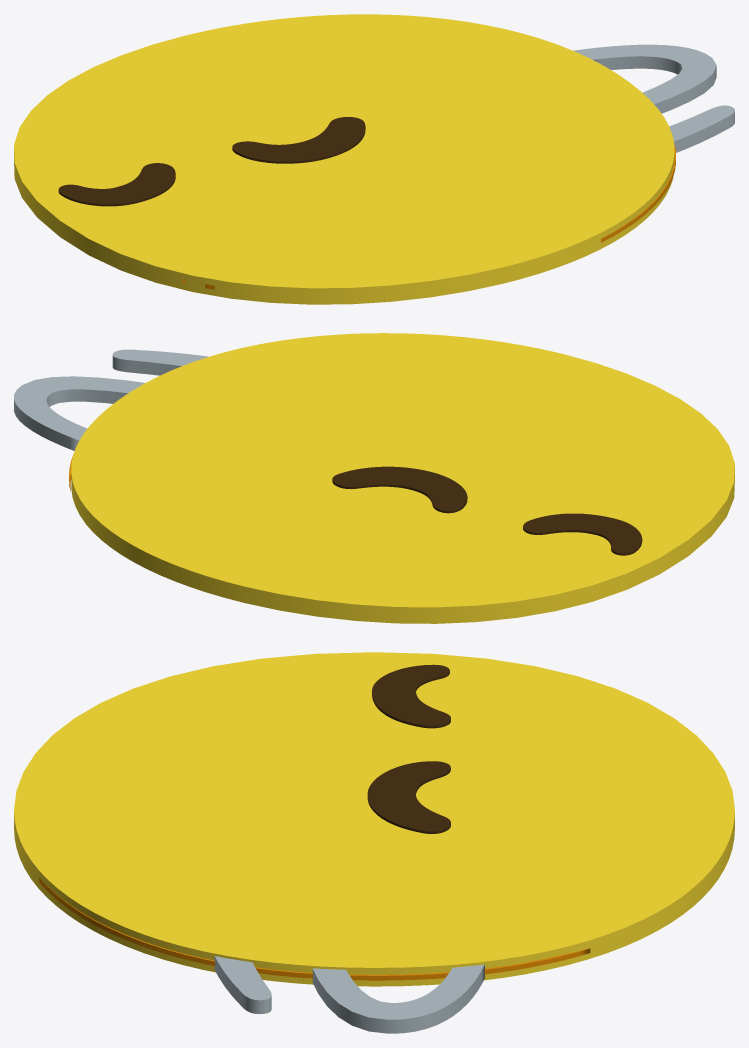
File: emoji_u1f642_200d_2194.glb
3 renders of one model, top to bottom at view 1: azimuth 30°, elevation 25°; view 2: azimuth 150°, elevation 25°; view 3: azimuth 270°, elevation 25°, orthographic. The views are drawn at different scales.
Parts seen in each view (by area): view 1: emoji_u1f642_200d_2194; view 2: emoji_u1f642_200d_2194; view 3: emoji_u1f642_200d_2194.
Part boxes in pixels (left/top/right/bottom): emoji_u1f642_200d_2194: left=14, top=14, right=734, bottom=304; emoji_u1f642_200d_2194: left=14, top=333, right=734, bottom=623; emoji_u1f642_200d_2194: left=14, top=652, right=734, bottom=1033.
Bounding box in the file's own units: 0.0337 × 0.001 × 0.0281.
